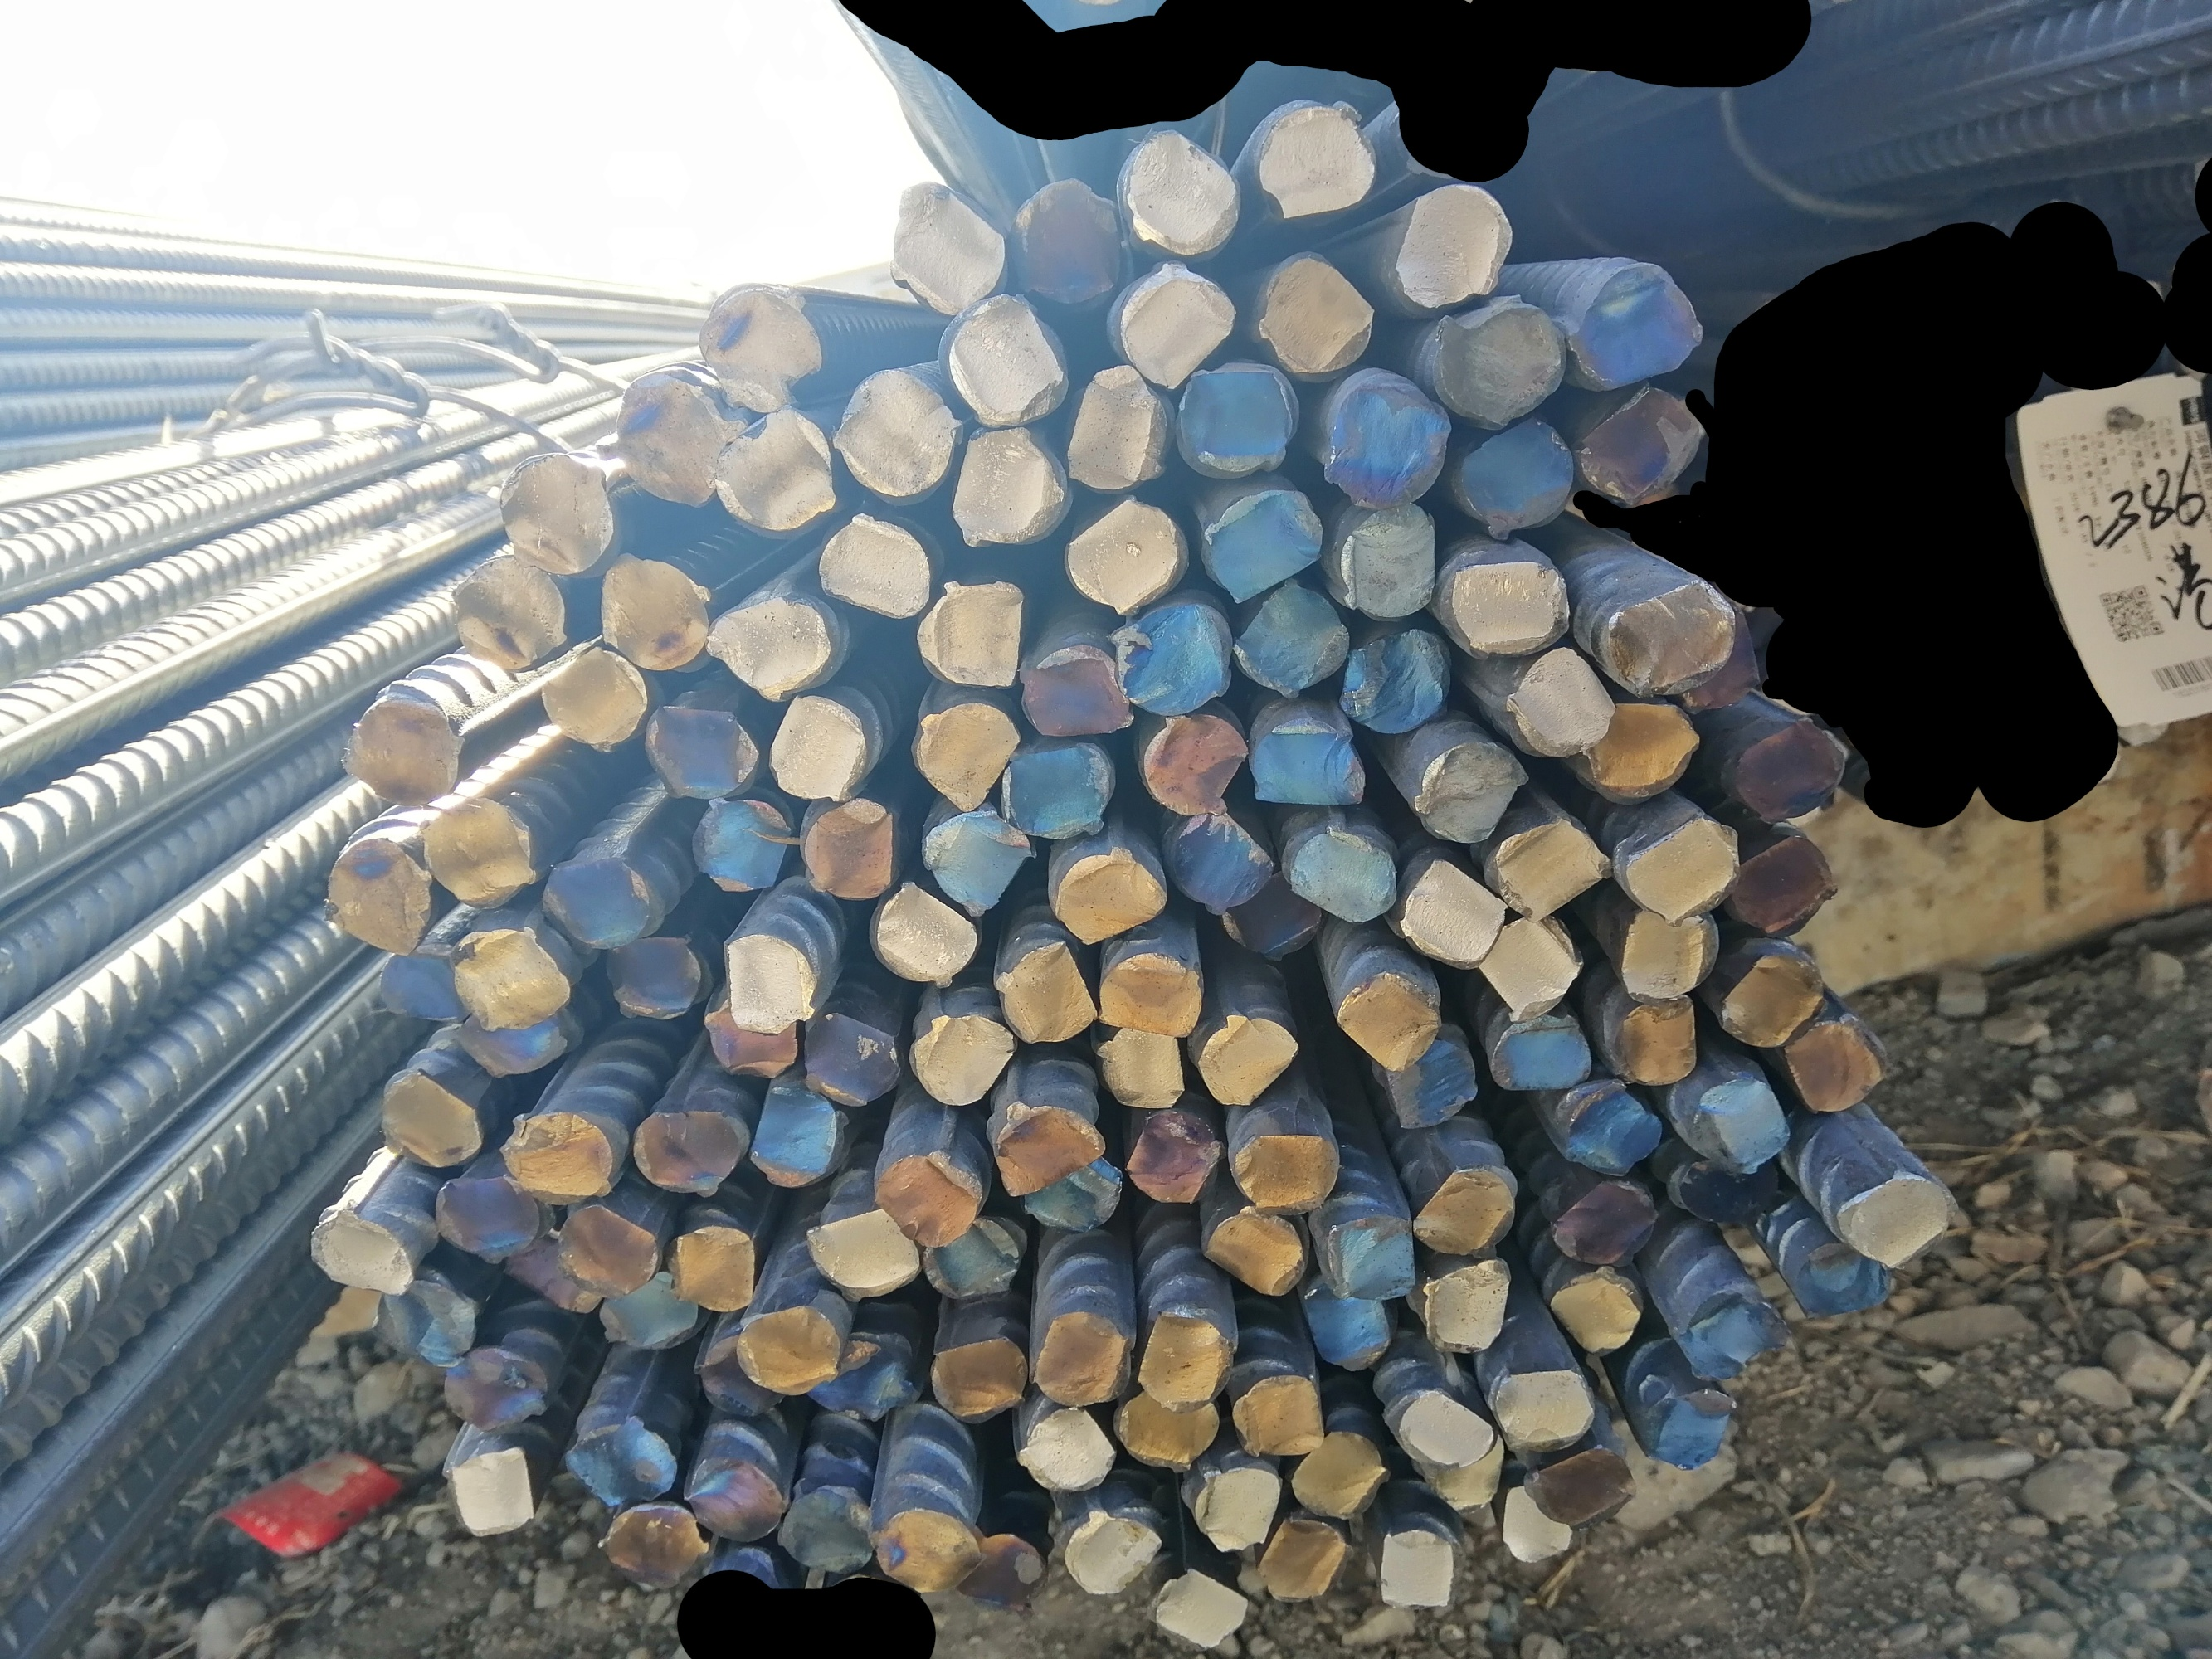rebar: (1429, 291, 1571, 429), (1567, 254, 1706, 390), (1602, 563, 1736, 699), (941, 288, 1072, 427), (1004, 176, 1135, 312), (617, 373, 746, 511), (1323, 369, 1452, 507), (885, 178, 1011, 314), (1124, 122, 1252, 254), (699, 279, 824, 411), (835, 368, 959, 502), (1574, 382, 1710, 504), (1391, 179, 1515, 310), (1117, 258, 1236, 394), (1107, 594, 1236, 718), (1459, 411, 1578, 544), (1062, 491, 1187, 615), (493, 450, 621, 572), (950, 425, 1074, 549), (342, 692, 467, 814), (418, 795, 542, 917), (718, 403, 837, 530), (1229, 580, 1353, 701), (1257, 98, 1377, 221), (1259, 247, 1377, 373), (322, 833, 438, 962), (591, 551, 711, 673), (1170, 361, 1295, 477), (1726, 706, 1848, 824), (1198, 488, 1325, 601), (1625, 812, 1745, 931), (443, 925, 570, 1037), (450, 556, 568, 674), (1414, 737, 1534, 852), (1440, 554, 1572, 657), (1340, 627, 1462, 739), (706, 594, 833, 701), (1396, 854, 1511, 971), (1490, 814, 1612, 924), (1574, 695, 1706, 796), (1508, 640, 1616, 763), (1065, 361, 1164, 495), (1835, 1169, 1961, 1272), (910, 701, 1023, 812), (913, 577, 1025, 690), (816, 511, 931, 620), (1163, 807, 1279, 913), (1335, 502, 1440, 620), (540, 643, 654, 751), (870, 877, 978, 990), (995, 934, 1100, 1051), (922, 809, 1032, 918), (1668, 594, 1771, 711), (1250, 709, 1367, 812), (990, 1100, 1109, 1201), (427, 1169, 556, 1262), (1471, 915, 1584, 1019), (539, 847, 654, 950), (1729, 833, 1837, 941), (765, 692, 872, 802), (1686, 1072, 1795, 1178), (1555, 1079, 1665, 1185), (375, 1068, 486, 1173), (1332, 971, 1443, 1075), (1286, 821, 1401, 922), (748, 1075, 847, 1192), (868, 1148, 985, 1248), (1140, 711, 1250, 816), (643, 701, 758, 800), (905, 1009, 1020, 1108), (565, 1413, 680, 1513), (802, 1202, 920, 1298), (499, 1114, 619, 1208), (716, 925, 819, 1035), (1405, 1162, 1520, 1260), (997, 742, 1112, 840), (1055, 845, 1170, 941), (1196, 1007, 1304, 1108), (1021, 643, 1135, 739), (629, 1107, 746, 1199), (600, 1497, 711, 1593), (441, 1342, 554, 1436), (1781, 1014, 1886, 1115), (1377, 1032, 1482, 1131), (683, 1450, 790, 1547), (1679, 1284, 1785, 1382), (1720, 950, 1827, 1047), (1121, 1108, 1227, 1204), (868, 1507, 985, 1595), (551, 1202, 659, 1297), (1550, 1176, 1658, 1270), (598, 931, 708, 1023), (1199, 1204, 1309, 1297), (802, 1331, 915, 1420), (1231, 1124, 1344, 1213), (692, 793, 791, 894), (950, 1513, 1051, 1612), (798, 796, 896, 899), (1138, 1307, 1234, 1412), (919, 1208, 1025, 1302), (1614, 906, 1720, 1000), (736, 1300, 844, 1392), (1032, 1309, 1131, 1408), (1492, 1359, 1597, 1453), (804, 1009, 899, 1110), (370, 1279, 483, 1364), (1290, 1431, 1394, 1523), (1231, 868, 1335, 960), (594, 1270, 704, 1358), (312, 1204, 411, 1300), (1551, 1262, 1652, 1356), (776, 1485, 879, 1577), (448, 1006, 577, 1079), (1058, 1507, 1166, 1595), (1096, 951, 1204, 1039), (443, 1441, 539, 1539), (1021, 1147, 1126, 1236), (1187, 1460, 1283, 1556), (1527, 1445, 1639, 1527), (1013, 1405, 1117, 1492), (1116, 1382, 1220, 1469), (1323, 1208, 1419, 1302), (1422, 1256, 1515, 1354), (1300, 1279, 1398, 1371), (1794, 1237, 1896, 1324), (1145, 1563, 1252, 1647), (1391, 1387, 1499, 1469), (662, 1222, 760, 1312), (927, 1335, 1027, 1422), (1231, 1373, 1332, 1459), (1607, 995, 1701, 1086), (497, 1239, 603, 1316), (1487, 1016, 1593, 1093), (1374, 1523, 1459, 1617), (702, 997, 800, 1079), (1096, 1025, 1187, 1112), (694, 1331, 784, 1417), (375, 948, 471, 1028), (1644, 1387, 1736, 1469), (1429, 1417, 1510, 1511), (1675, 1155, 1780, 1227), (1260, 1521, 1349, 1601), (1496, 1485, 1578, 1565)
